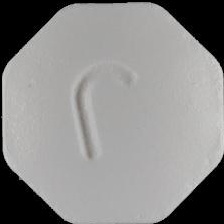65862-927: (0, 0, 224, 224)
